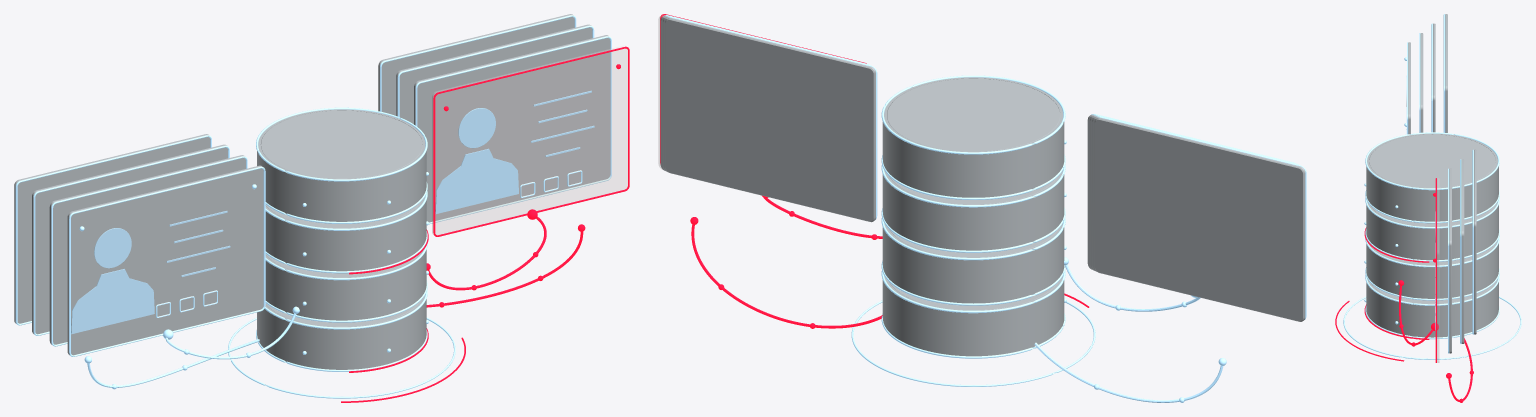
Rendered from reference.glb.
The picture shows the model from 3 angles, left to right: view 1: azimuth 30°, elevation 25°; view 2: azimuth 150°, elevation 25°; view 3: azimuth 270°, elevation 25°; orthographic projection. The views are drawn at different scales.
Parts seen in each view (by area): view 1: laminated glass profile pane_039, laminated glass profile pane_059, laminated glass profile pane_057, database clear end plate_027, hollow glass database shell_024, hollow glass database shell_001, hollow glass database shell_016, hollow glass database shell_009, laminated glass profile pane_037, laminated glass profile pane_033, laminated glass profile pane_035, laminated glass profile pane_053 (+20 smaller); view 2: laminated glass profile pane_033, laminated glass profile pane_053, database clear end plate_027, hollow glass database shell_024, hollow glass database shell_009, hollow glass database shell_016, hollow glass database shell_001, database etched glass rim_026, database footprint ring_031, thin curved data connection_088, database clear end plate_004, database clear end plate_019 (+11 smaller); view 3: database clear end plate_027, hollow glass database shell_024, hollow glass database shell_016, hollow glass database shell_009, hollow glass database shell_001, laminated glass profile pane_055, database etched glass rim_026, database footprint ring_031, laminated glass profile pane_057, laminated glass profile pane_053, laminated glass profile pane_059, laminated glass profile pane_037 (+24 smaller).
Boxes of the visible parts, x1,y1,x2,y2 form: laminated glass profile pane_039: (67,165,263,355); laminated glass profile pane_059: (432,46,627,234); laminated glass profile pane_057: (414,35,610,222); database clear end plate_027: (261,110,422,178); hollow glass database shell_024: (257,109,426,221); hollow glass database shell_001: (257,295,426,369); hollow glass database shell_016: (265,196,426,271); hollow glass database shell_009: (265,250,426,320); laminated glass profile pane_037: (49,155,245,344); laminated glass profile pane_033: (14,134,210,323); laminated glass profile pane_035: (32,144,227,334); laminated glass profile pane_053: (378,14,574,115); laminated glass profile pane_033: (1094,117,1305,321); laminated glass profile pane_053: (665,18,875,222); database clear end plate_027: (887,78,1060,151); hollow glass database shell_024: (882,77,1064,197); hollow glass database shell_009: (882,223,1064,303); hollow glass database shell_016: (882,170,1064,250); hollow glass database shell_001: (882,276,1064,356); database etched glass rim_026: (881,75,1065,154); database footprint ring_031: (851,300,1095,386); thin curved data connection_088: (691,224,882,328); database clear end plate_004: (889,282,1057,310); database clear end plate_019: (890,177,1057,204); database clear end plate_027: (1369,134,1495,187); hollow glass database shell_024: (1366,133,1498,221); hollow glass database shell_016: (1366,202,1498,260); hollow glass database shell_009: (1366,240,1498,298); hollow glass database shell_001: (1366,279,1498,337); laminated glass profile pane_055: (1461,159,1464,343); database etched glass rim_026: (1365,132,1499,190); database footprint ring_031: (1343,296,1521,359); laminated glass profile pane_057: (1449,168,1451,353); laminated glass profile pane_053: (1474,149,1476,334); laminated glass profile pane_059: (1437,178,1439,362); laminated glass profile pane_037: (1420,33,1423,132).
Bounding box in the file's own units: 3.36 × 1.37 × 1.14.
